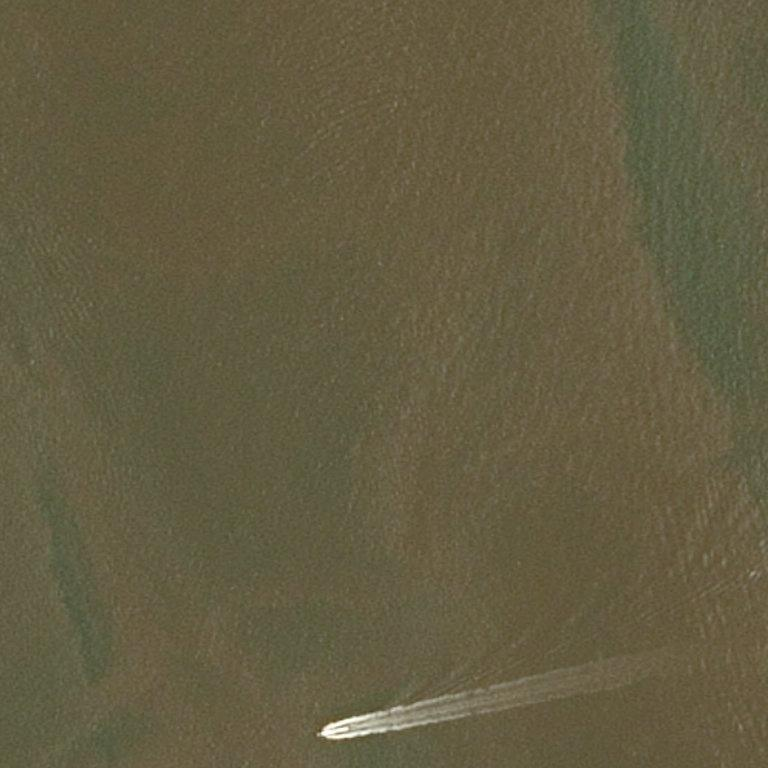ship: (329, 681, 331, 709)
